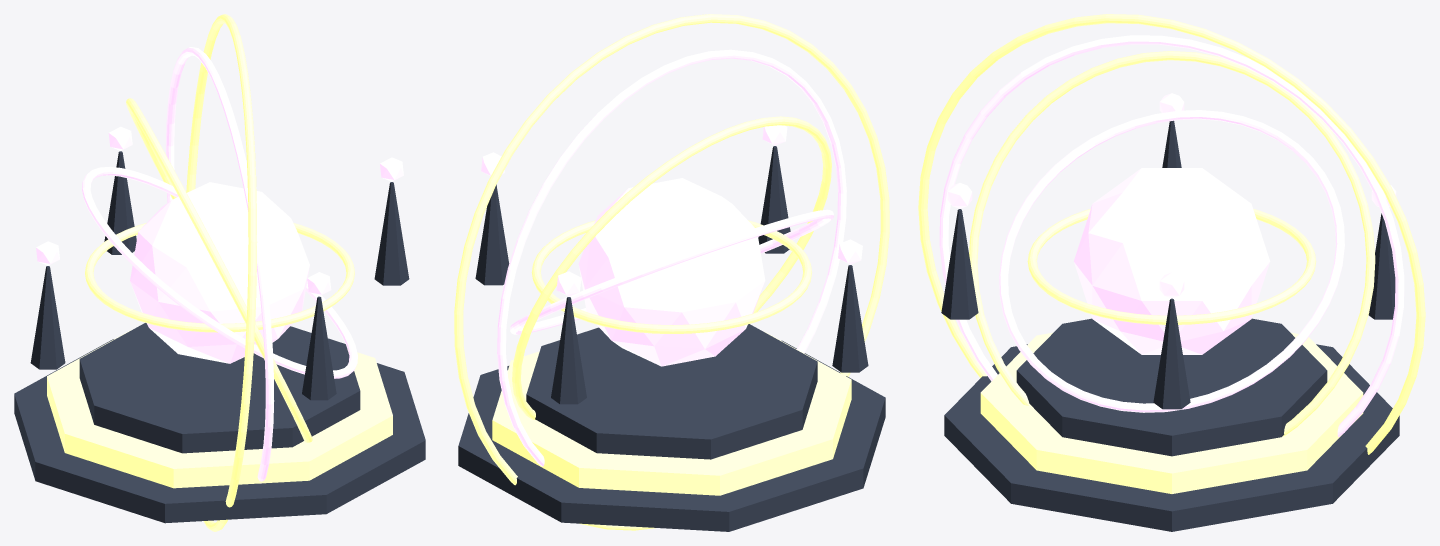
File: gpu-blender-v41.glb
3 renders of one model, left to right at view 1: azimuth 30°, elevation 25°; view 2: azimuth 150°, elevation 25°; view 3: azimuth 270°, elevation 25°, orthographic. The views are drawn at different scales.
Visible parts, largest first — view 1: Cylinder.002, SovereignCore_nealsvision, Cylinder, Cylinder.001, Torus.004, Torus.003, Torus.001, Torus, Torus.002, Cone.003, Cone, Cone.002 (+1 smaller); view 2: Cylinder.002, SovereignCore_nealsvision, Cylinder, Cylinder.001, Torus.004, Torus.003, Torus.002, Torus, Torus.001, Cone.001, Cone.002, Cone (+1 smaller); view 3: SovereignCore_nealsvision, Cylinder.002, Cylinder, Cylinder.001, Torus.004, Torus.001, Torus.003, Torus.002, Torus, Cone, Cone.003, Cone.001 (+1 smaller).
Part boxes in pixels (box(x1,y1,x2,y2)): Cylinder.002: box(79, 323, 360, 453); SovereignCore_nealsvision: box(130, 182, 309, 363); Cylinder: box(14, 339, 425, 523); Cylinder.001: box(47, 330, 392, 488); Torus.004: box(186, 14, 257, 531); Torus.003: box(165, 47, 274, 483); Torus.001: box(82, 166, 357, 378); Torus: box(85, 223, 354, 332); Torus.002: box(126, 98, 312, 442); Cone.003: box(302, 296, 336, 400); Cone: box(374, 182, 409, 285); Cone.002: box(30, 266, 65, 369); Cylinder.002: box(526, 324, 817, 459); SovereignCore_nealsvision: box(578, 178, 765, 366); Cylinder: box(458, 340, 885, 531); Cylinder.001: box(492, 331, 851, 495); Torus.004: box(454, 14, 889, 530); Torus.003: box(497, 49, 846, 466); Torus.002: box(512, 116, 831, 419); Torus: box(531, 220, 812, 333); Torus.001: box(510, 209, 833, 334); Cone.001: box(551, 297, 586, 404); Cone.002: box(832, 265, 868, 372); Cone: box(475, 184, 509, 285); SovereignCore_nealsvision: box(1073, 168, 1270, 354); Cylinder.002: box(1016, 318, 1327, 456); Cylinder: box(944, 344, 1399, 531); Cylinder.001: box(980, 332, 1363, 493); Torus.004: box(918, 14, 1425, 454); Torus.001: box(999, 110, 1344, 412); Torus.003: box(939, 35, 1404, 437); Torus.002: box(969, 51, 1375, 435); Torus: box(1027, 209, 1316, 324); Cone: box(1153, 298, 1190, 409); Cone.003: box(941, 209, 978, 319); Cone.001: box(1368, 213, 1395, 319).
Bounding box in the file's own units: 4.41 × 5.33 × 4.9.
